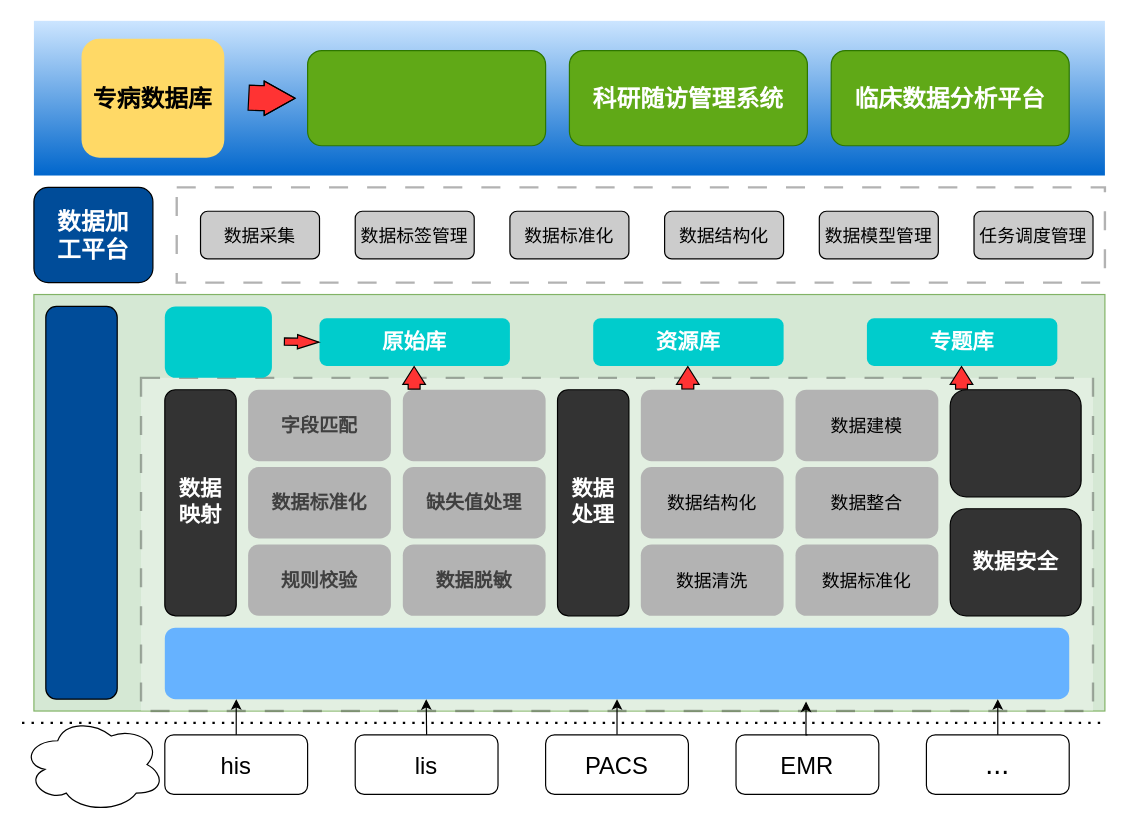
This 1127x833 diagram has some shape labels left out. Each missing label, with the centre of its shape:
"大 数 据 治 理 平 台" belongs at [81,502].
"数据 资源" belongs at [217,341].
"数据服务" belongs at [1015,443].
"数据源" belongs at [93,764].
"标准数据集" belongs at [711,425].
"科研大数据搜索系统" belongs at [426,97].
"类型转换" belongs at [473,425].
"院内数据采集" belongs at [616,663].
